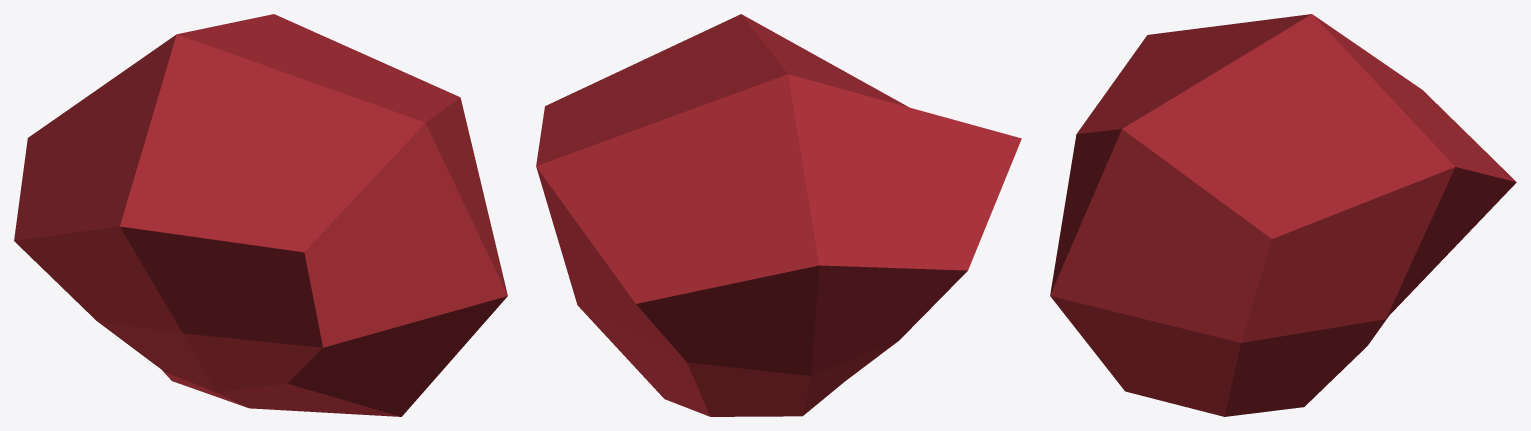
Rendered from BushBerries_Crop.gltf.
3 renders of one model, left to right at view 1: azimuth 30°, elevation 25°; view 2: azimuth 150°, elevation 25°; view 3: azimuth 270°, elevation 25°, orthographic. The views are drawn at different scales.
Parts seen in each view (by area): view 1: BushBerries_Crop; view 2: BushBerries_Crop; view 3: BushBerries_Crop.
Part boxes in pixels (bbox=[...]): BushBerries_Crop: bbox=[14, 14, 507, 416]; BushBerries_Crop: bbox=[536, 14, 1021, 416]; BushBerries_Crop: bbox=[1050, 14, 1516, 416].
Bounding box in the file's own units: 0.169 × 0.1317 × 0.1661.
